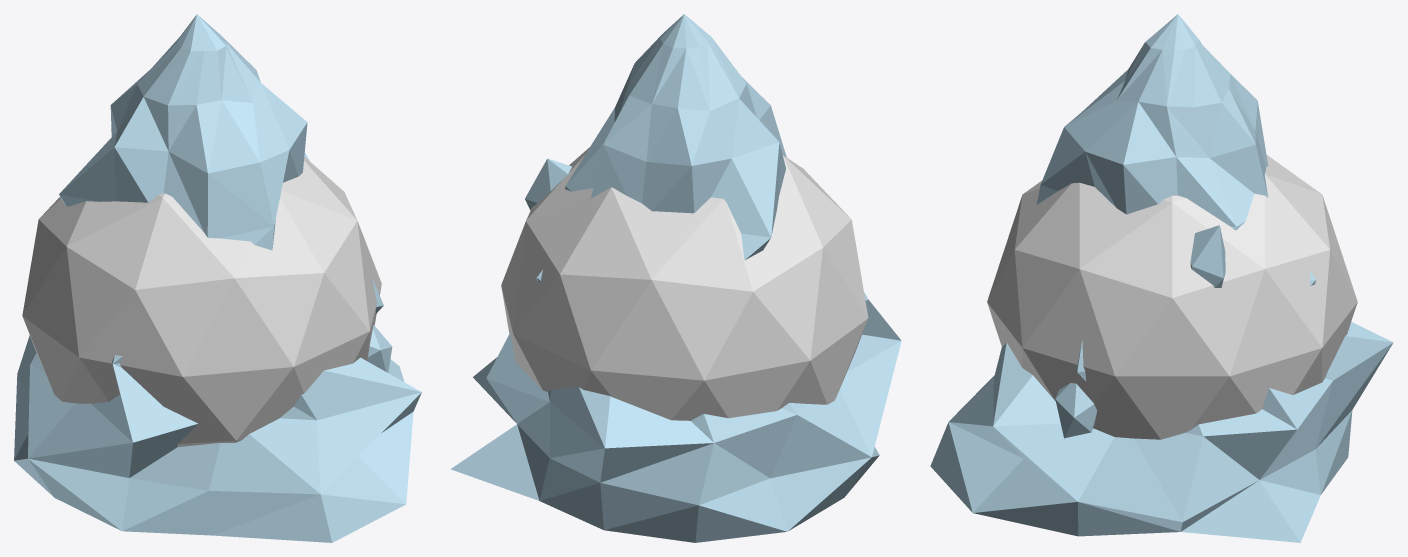
File: SM_Iceberg_L_A.glb
The picture shows the model from 3 angles, left to right: view 1: azimuth 30°, elevation 25°; view 2: azimuth 150°, elevation 25°; view 3: azimuth 270°, elevation 25°; orthographic projection. The views are drawn at different scales.
Visible parts, largest first — view 1: SM_Iceberg_L, COL_Iceberg_L; view 2: SM_Iceberg_L, COL_Iceberg_L; view 3: SM_Iceberg_L, COL_Iceberg_L.
Part boxes in pixels (x1,y1,x2,y2): SM_Iceberg_L: (14, 14, 421, 542); COL_Iceberg_L: (22, 157, 381, 446); SM_Iceberg_L: (450, 14, 901, 542); COL_Iceberg_L: (501, 147, 868, 420); SM_Iceberg_L: (930, 14, 1393, 542); COL_Iceberg_L: (987, 154, 1357, 439).
Size of the model in its own units: 13.89 by 15.65 by 14.49.
